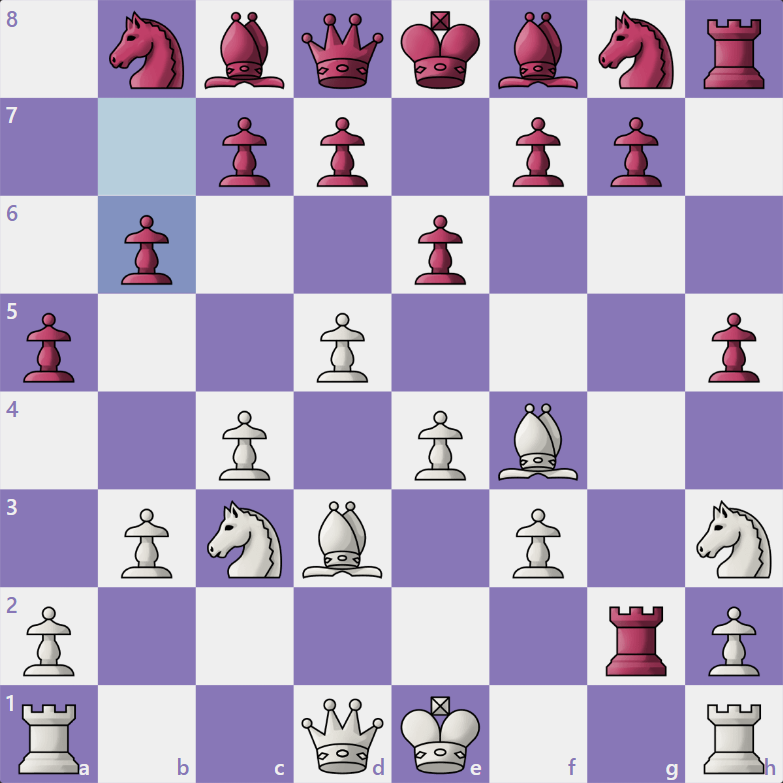B: (301, 498, 385, 583), (497, 402, 581, 484)
K: (397, 694, 484, 777)
N: (205, 498, 283, 582), (696, 497, 772, 582)
P: (22, 603, 78, 681), (118, 504, 174, 582), (217, 406, 273, 484), (414, 406, 470, 484), (509, 505, 565, 583), (706, 603, 762, 681), (314, 309, 370, 387)
Q: (300, 696, 386, 775)
R: (701, 700, 768, 777), (16, 702, 82, 777)
b: (495, 9, 580, 93), (203, 10, 285, 93)
k: (396, 8, 483, 91)
n: (596, 9, 677, 92), (107, 9, 186, 92)
p: (17, 309, 79, 385), (113, 213, 175, 289), (409, 212, 471, 288), (701, 310, 763, 386), (605, 115, 667, 191), (507, 114, 569, 190), (310, 114, 372, 190), (212, 114, 274, 190)
q: (297, 9, 386, 92)
r: (602, 602, 671, 679), (701, 14, 767, 93)
